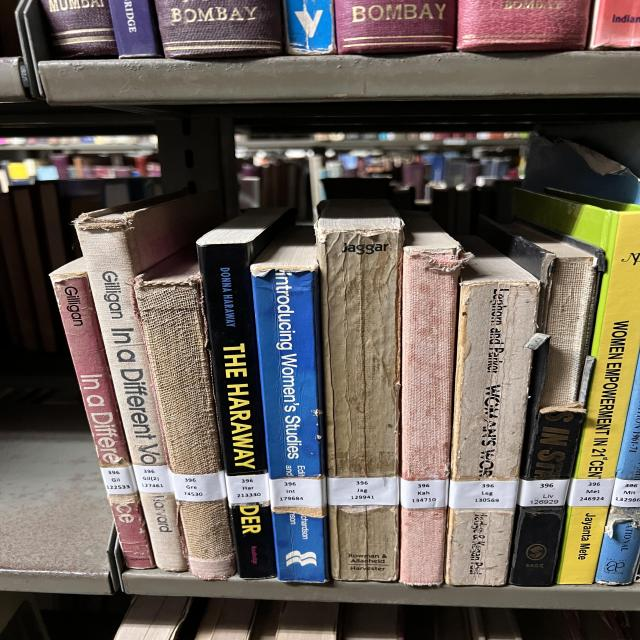Book: (75, 192, 222, 571), (515, 190, 640, 584), (480, 220, 605, 586), (197, 208, 295, 579), (133, 250, 237, 580), (315, 200, 403, 581), (50, 259, 155, 569), (445, 238, 538, 586), (252, 226, 330, 582), (400, 211, 472, 585), (595, 354, 640, 585)
Label: (448, 480, 518, 509), (327, 478, 398, 505), (172, 471, 227, 502), (270, 478, 325, 508), (400, 479, 448, 509), (518, 479, 570, 506), (225, 474, 270, 505), (567, 479, 615, 506), (100, 465, 137, 495), (133, 465, 173, 492), (612, 478, 640, 508)
